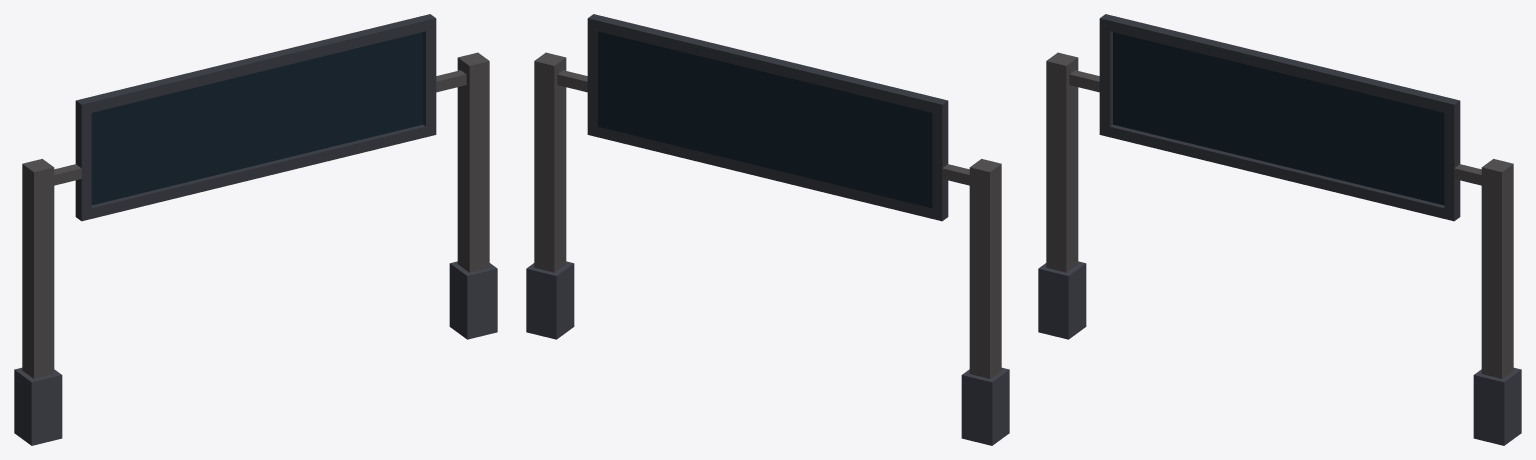
Rendered from RoadBar.fbx.
The picture shows the model from 3 angles, left to right: view 1: azimuth 30°, elevation 25°; view 2: azimuth 150°, elevation 25°; view 3: azimuth 330°, elevation 25°; orthographic projection.
Visible parts, largest first — view 1: w; view 2: w; view 3: w.
Boxes of the visible parts, x1,y1,x2,y2 form: w: (14,14,497,445); w: (526,14,1009,445); w: (1038,14,1521,445).
Bounding box in the file's own units: 4600 × 3050 × 300.
